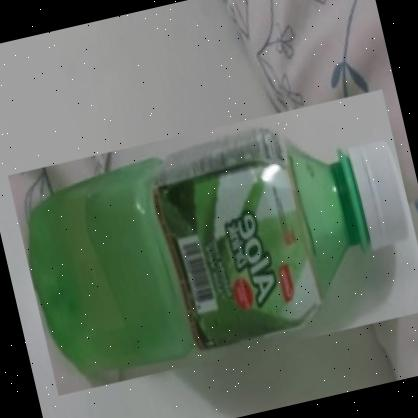bottle: (7, 88, 418, 395)
cap: (330, 124, 418, 267)
label: (145, 109, 340, 366)
